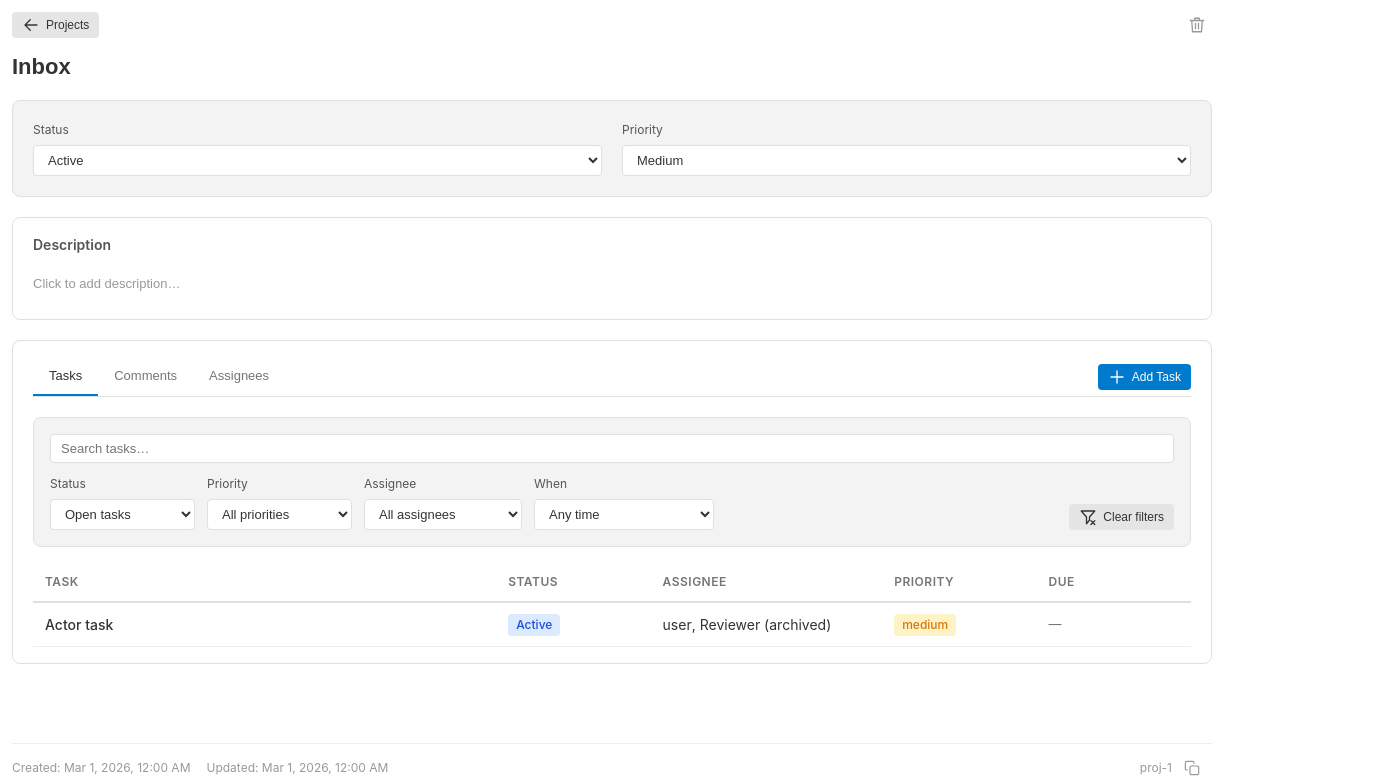
Test: actor-aware renderer views › opens an assignee from a project and returns to its Assignees tab
Click the button "Assignees". click: (239, 376)
box: [193,357,285,396]
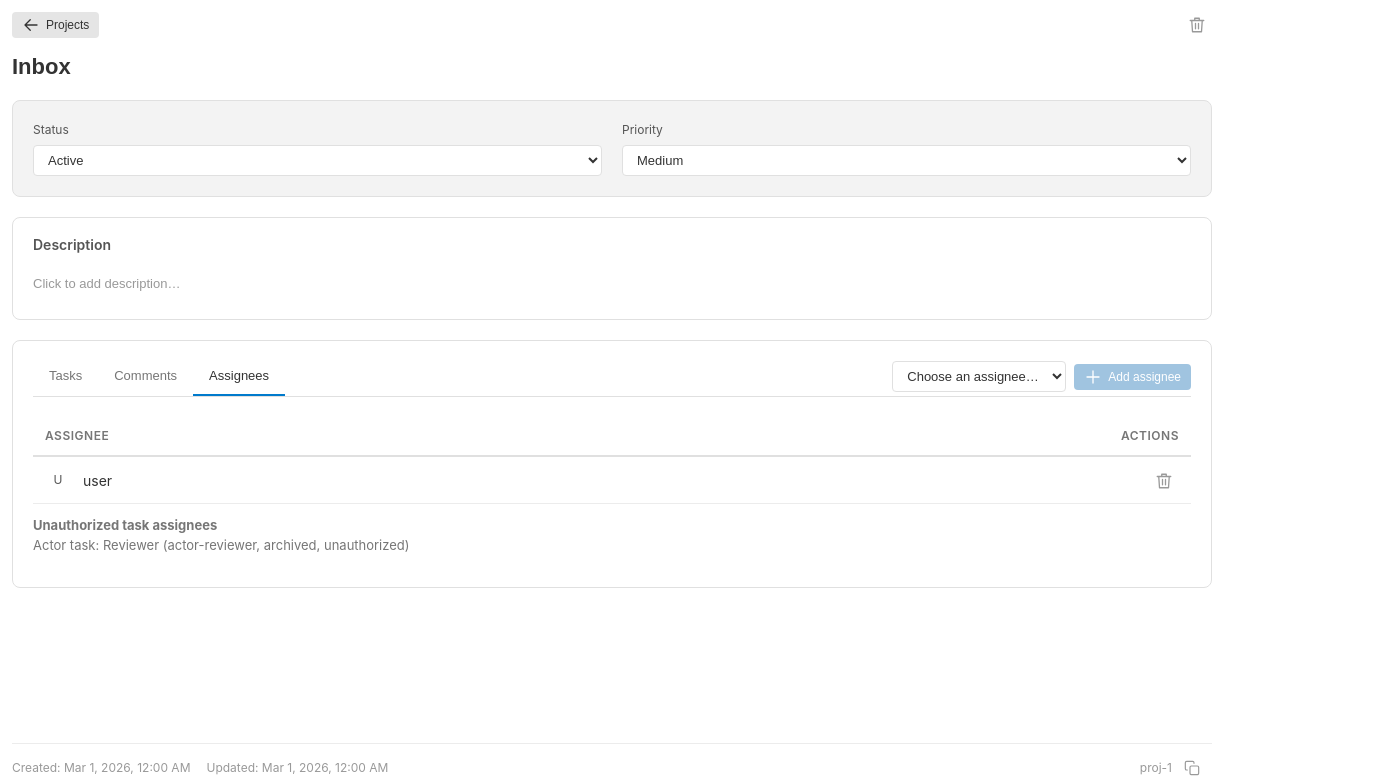
Click the button "user". click: (98, 480)
box: [83,470,112,490]
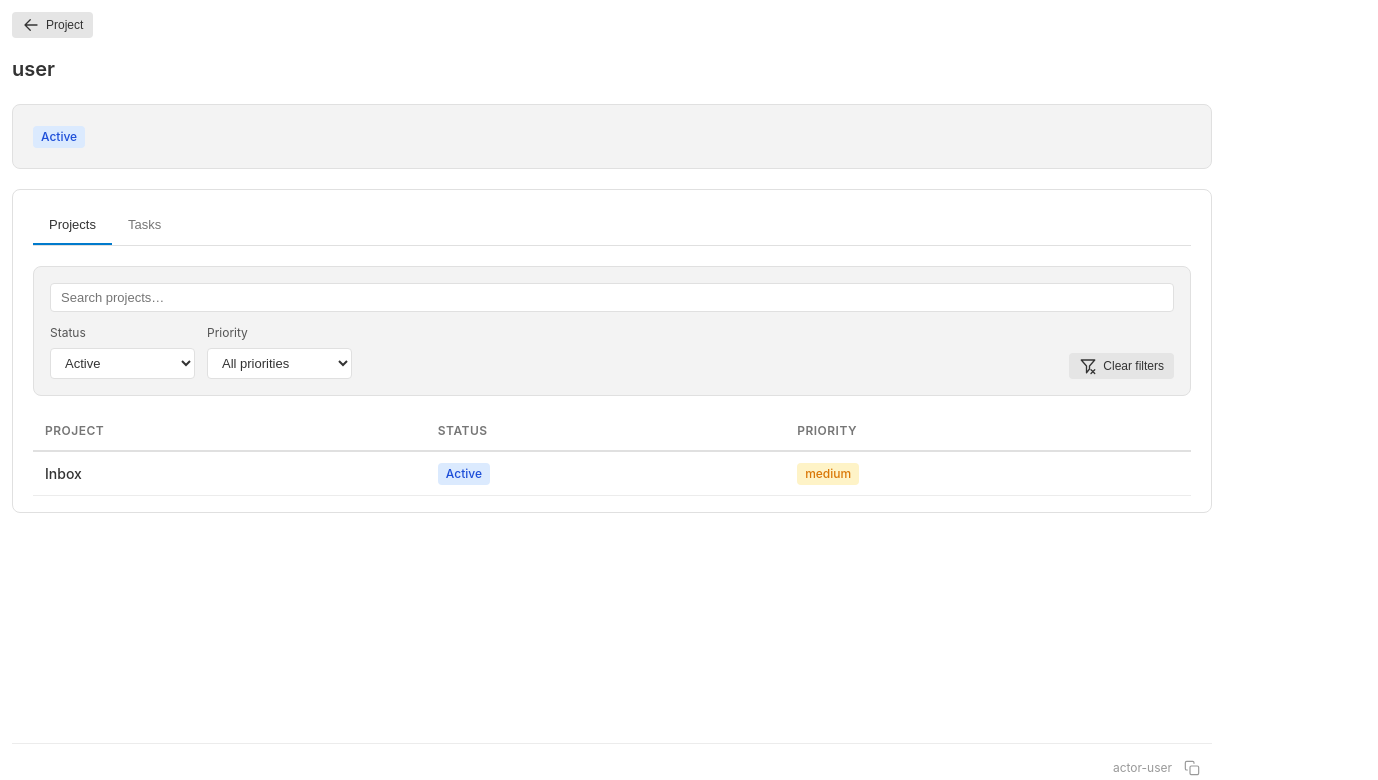
Now the heading "user" is shown, box [12,57,55,81]
Click the button "Project". click: (53, 25)
box: [12,12,93,38]
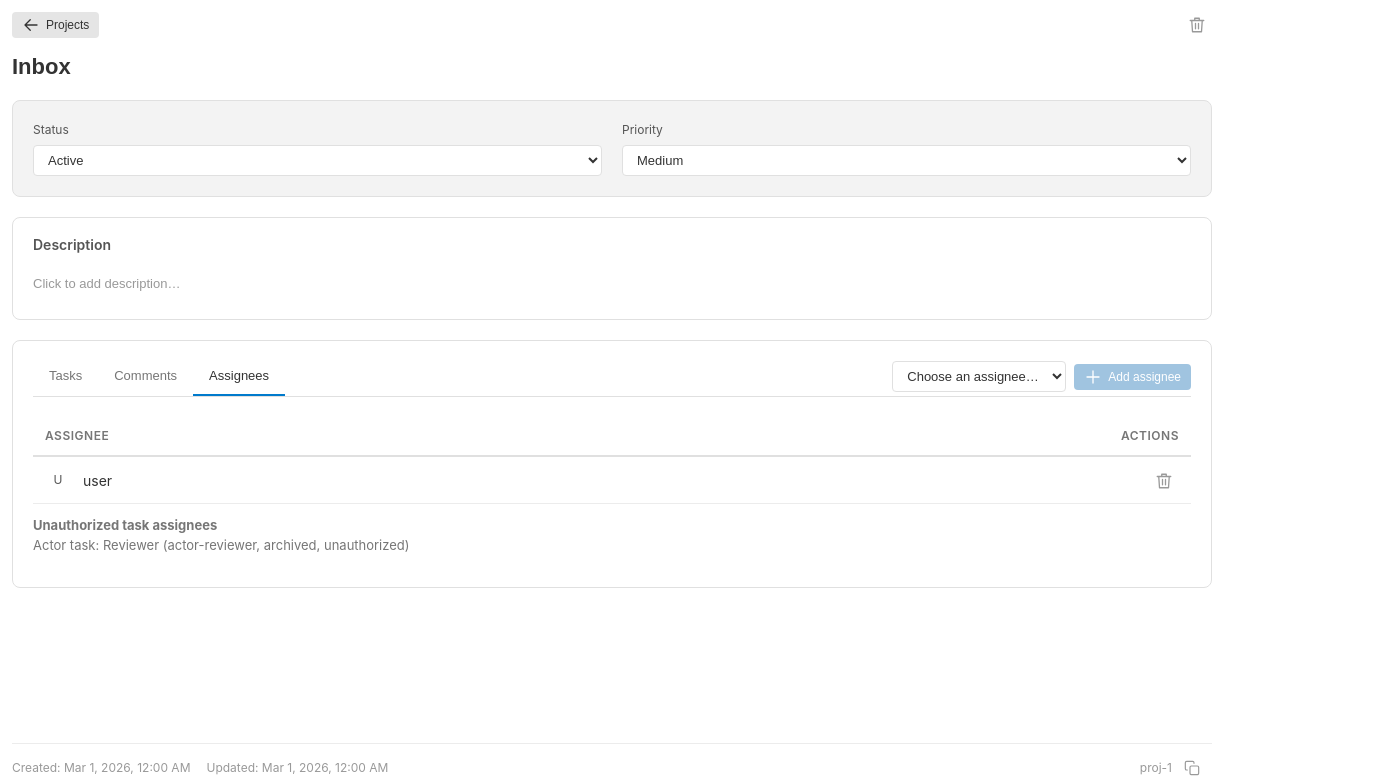
Now the button named "Remove user from authorized assignees" is shown, box [1149,470,1179,492]
